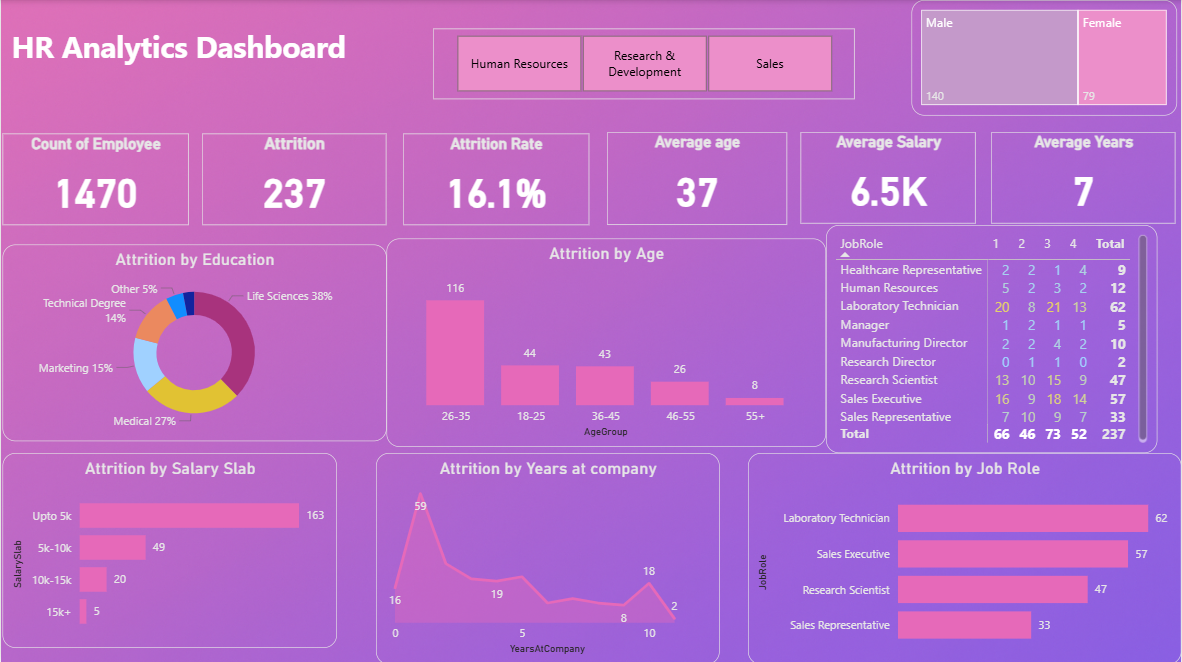

Layout of this report page (visuals, bound fields, positions):
{"tool":"powerbi","page":{"name":"Page 1","canvas":[1280,720],"ordinal":0},"visuals":[{"type":"card","title":"Count of Employee","fields":{"Values":["Count(HR_Analytics.EmpID)"]},"box":[1.6,144.8,201.7,99.2],"z":0},{"type":"card","title":"Attrition","fields":{"Values":["Sum(HR_Analytics.Attrition count)"]},"box":[218,144.8,200.1,99.2],"z":1000},{"type":"card","title":"Attrition Rate","fields":{"Values":["HR_Analytics.Attrition Rate"]},"box":[435.9,144.8,201.7,99.2],"z":2000},{"type":"card","title":"Average Years","fields":{"Values":["Avg(HR_Analytics.YearsAtCompany)"]},"box":[1073.5,143.1,200.1,99.2],"z":3000},{"type":"card","title":"Average Salary","fields":{"Values":["Avg(HR_Analytics.MonthlyIncome)"]},"box":[866.9,143.1,190.3,99.2],"z":4000},{"type":"card","title":"Average age","fields":{"Values":["Avg(HR_Analytics.Age)"]},"box":[657.1,143.1,195.2,100.8],"z":5000},{"type":"donutChart","title":"Attrition by Education","fields":{"Category":["HR_Analytics.EducationField"],"Y":["Sum(HR_Analytics.Attrition count)"]},"box":[1.6,265.1,416.4,213.1],"z":6000},{"type":"columnChart","title":"Attrition by Age","fields":{"Y":["Sum(HR_Analytics.Attrition count)"],"Category":["HR_Analytics.AgeGroup"]},"box":[418,258.6,476.6,226.1],"z":7000},{"type":"pivotTable","fields":{"Columns":["HR_Analytics.JobSatisfaction"],"Values":["Sum(HR_Analytics.Attrition count)"],"Rows":["HR_Analytics.JobRole"]},"box":[894.6,244,359.5,247.2],"z":8000},{"type":"barChart","title":"Attrition by Salary Slab","fields":{"Y":["Sum(HR_Analytics.Attrition count)"],"Category":["HR_Analytics.SalarySlab"]},"box":[1.6,491.2,362.7,211.5],"z":9000},{"type":"barChart","title":"Attrition by Job Role","fields":{"Y":["Sum(HR_Analytics.Attrition count)"],"Category":["HR_Analytics.JobRole"]},"box":[810,491.2,470.1,229.3],"z":10000},{"type":"areaChart","title":"Attrition by Years at company","fields":{"Category":["HR_Analytics.YearsAtCompany"],"Y":["Sum(HR_Analytics.Attrition count)"]},"box":[406.6,491.2,372.5,229.3],"z":11000},{"type":"treemap","fields":{"Values":["Sum(HR_Analytics.Attrition count)"],"Group":["HR_Analytics.Gender"]},"box":[987.3,0,287.9,125.2],"z":12000},{"type":"slicer","fields":{"Values":["HR_Analytics.Department"]},"box":[468.4,30.9,457.1,76.4],"z":13000},{"type":"textbox","box":[6.5,22.8,447.3,84.6],"z":14000}]}

Visuals, with their boxes in screenshot pixels (x1, y1, x2, y2), scaled from the page's 1280x720 canvas onto the 1182x662 screenshot:
"Count of Employee" card: Rect(1, 133, 188, 224)
"Attrition" card: Rect(201, 133, 386, 224)
"Attrition Rate" card: Rect(403, 133, 589, 224)
"Average Years" card: Rect(991, 132, 1176, 223)
"Average Salary" card: Rect(801, 132, 976, 223)
"Average age" card: Rect(607, 132, 787, 224)
"Attrition by Education" donutChart: Rect(1, 244, 386, 440)
"Attrition by Age" columnChart: Rect(386, 238, 826, 446)
pivotTable - HR_Analytics.JobSatisfaction x Sum(HR_Analytics.Attrition count): Rect(826, 224, 1158, 452)
"Attrition by Salary Slab" barChart: Rect(1, 452, 336, 646)
"Attrition by Job Role" barChart: Rect(748, 452, 1181, 661)
"Attrition by Years at company" areaChart: Rect(375, 452, 719, 661)
treemap - Sum(HR_Analytics.Attrition count) x HR_Analytics.Gender: Rect(912, 0, 1178, 115)
slicer - HR_Analytics.Department: Rect(433, 28, 855, 99)
textbox: Rect(6, 21, 419, 99)
